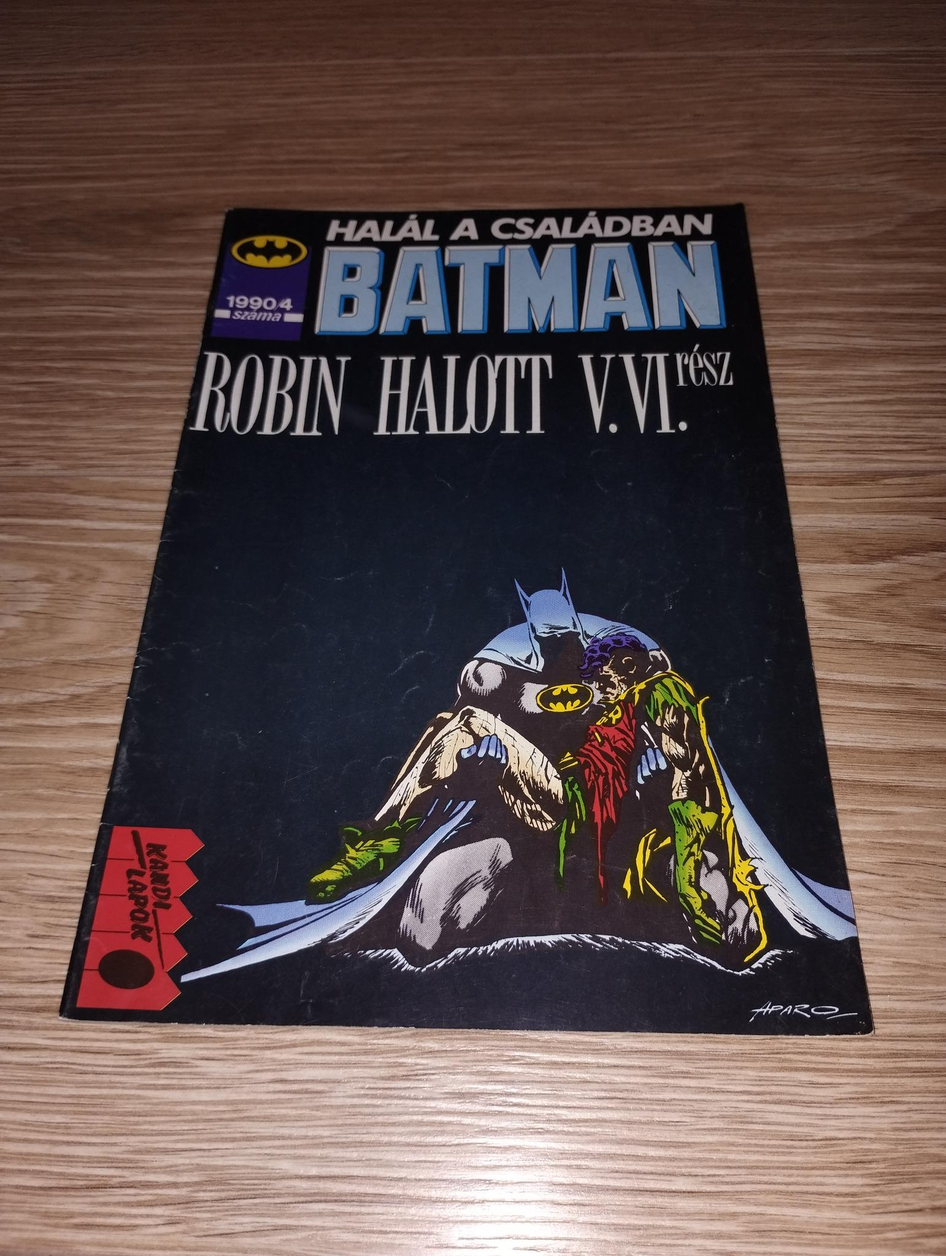comic: (63, 194, 885, 1034)
